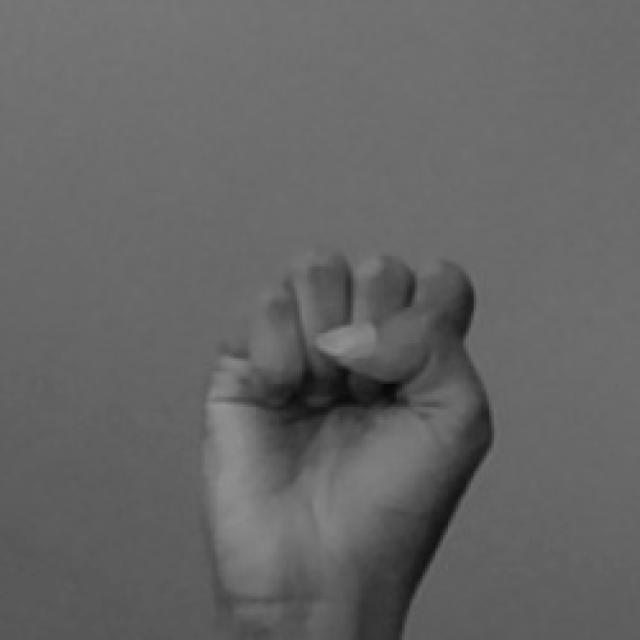S: (207, 246, 503, 640)
